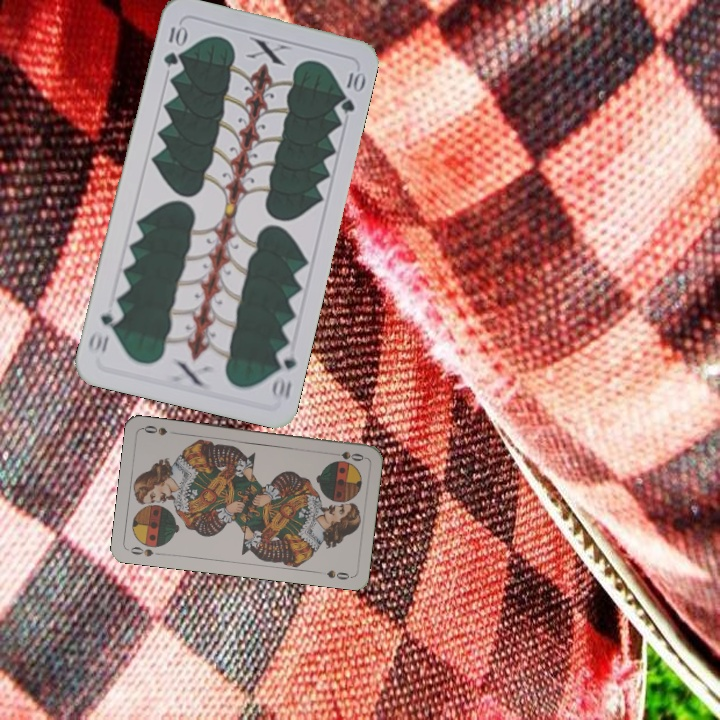G10: (268, 343, 299, 403), (159, 20, 188, 70)
SO: (326, 447, 367, 464), (126, 542, 156, 559)
